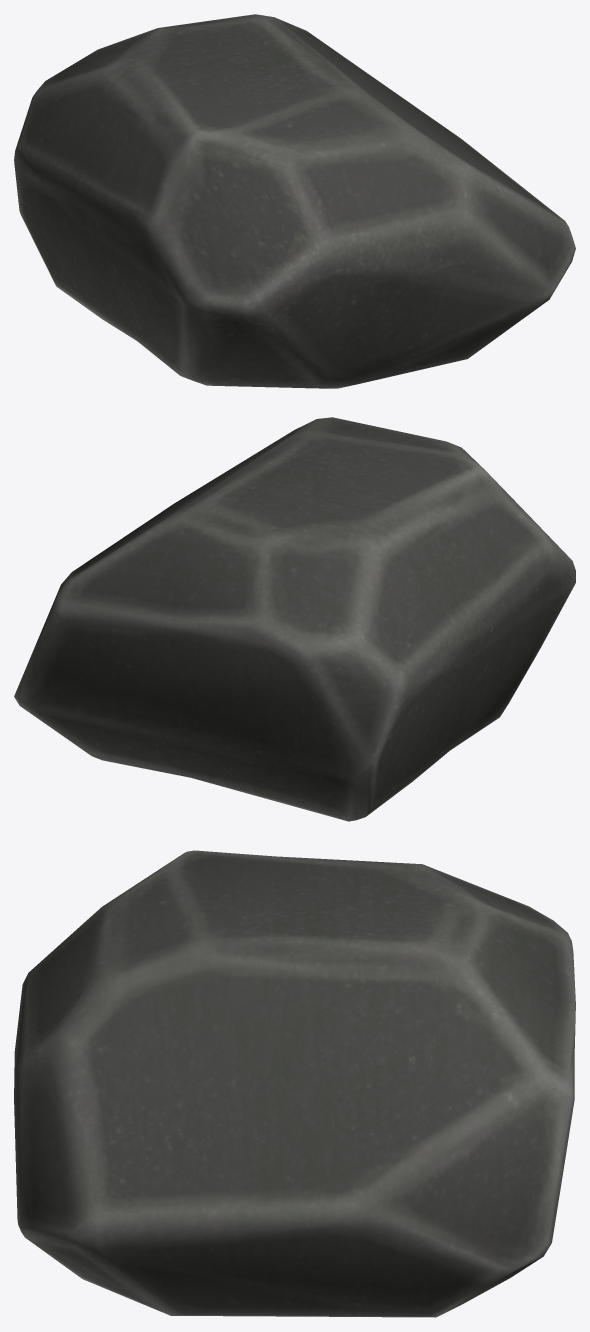
Rendered from Stylized Rocks 6.fbx.
The picture shows the model from 3 angles, top to bottom: view 1: azimuth 30°, elevation 25°; view 2: azimuth 150°, elevation 25°; view 3: azimuth 270°, elevation 25°; orthographic projection. The views are drawn at different scales.
Parts seen in each view (by area): view 1: Stylized Rocks 6; view 2: Stylized Rocks 6; view 3: Stylized Rocks 6.
Boxes of the visible parts, x1,y1,x2,y2 form: Stylized Rocks 6: [14, 14, 575, 388]; Stylized Rocks 6: [14, 417, 575, 821]; Stylized Rocks 6: [14, 850, 575, 1317].
Size of the model in its own units: 194 by 117 by 199.
1 material, 1 textured.
